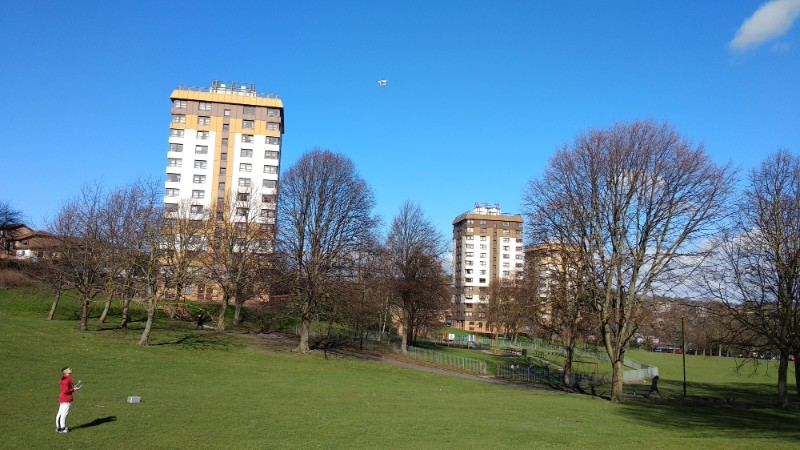drone: (377, 77, 389, 87)
